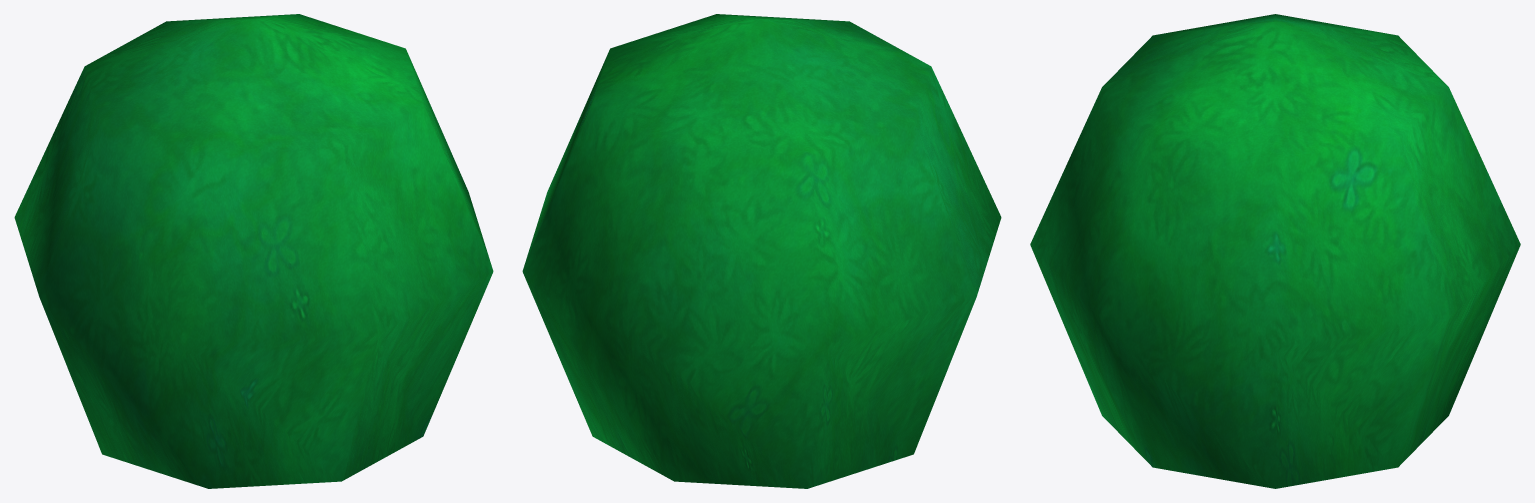
The model's file is Plant01_a01.FBX.
The picture shows the model from 3 angles, left to right: view 1: azimuth 30°, elevation 25°; view 2: azimuth 150°, elevation 25°; view 3: azimuth 270°, elevation 25°; orthographic projection.
Parts seen in each view (by area): view 1: Plant01_a01; view 2: Plant01_a01; view 3: Plant01_a01.
Boxes of the visible parts, x1,y1,x2,y2 form: Plant01_a01: [14, 14, 493, 488]; Plant01_a01: [522, 14, 1001, 488]; Plant01_a01: [1030, 14, 1520, 488].
Size of the model in its own units: 176 by 156 by 176.
Materials: 1 (1 with a texture image).
